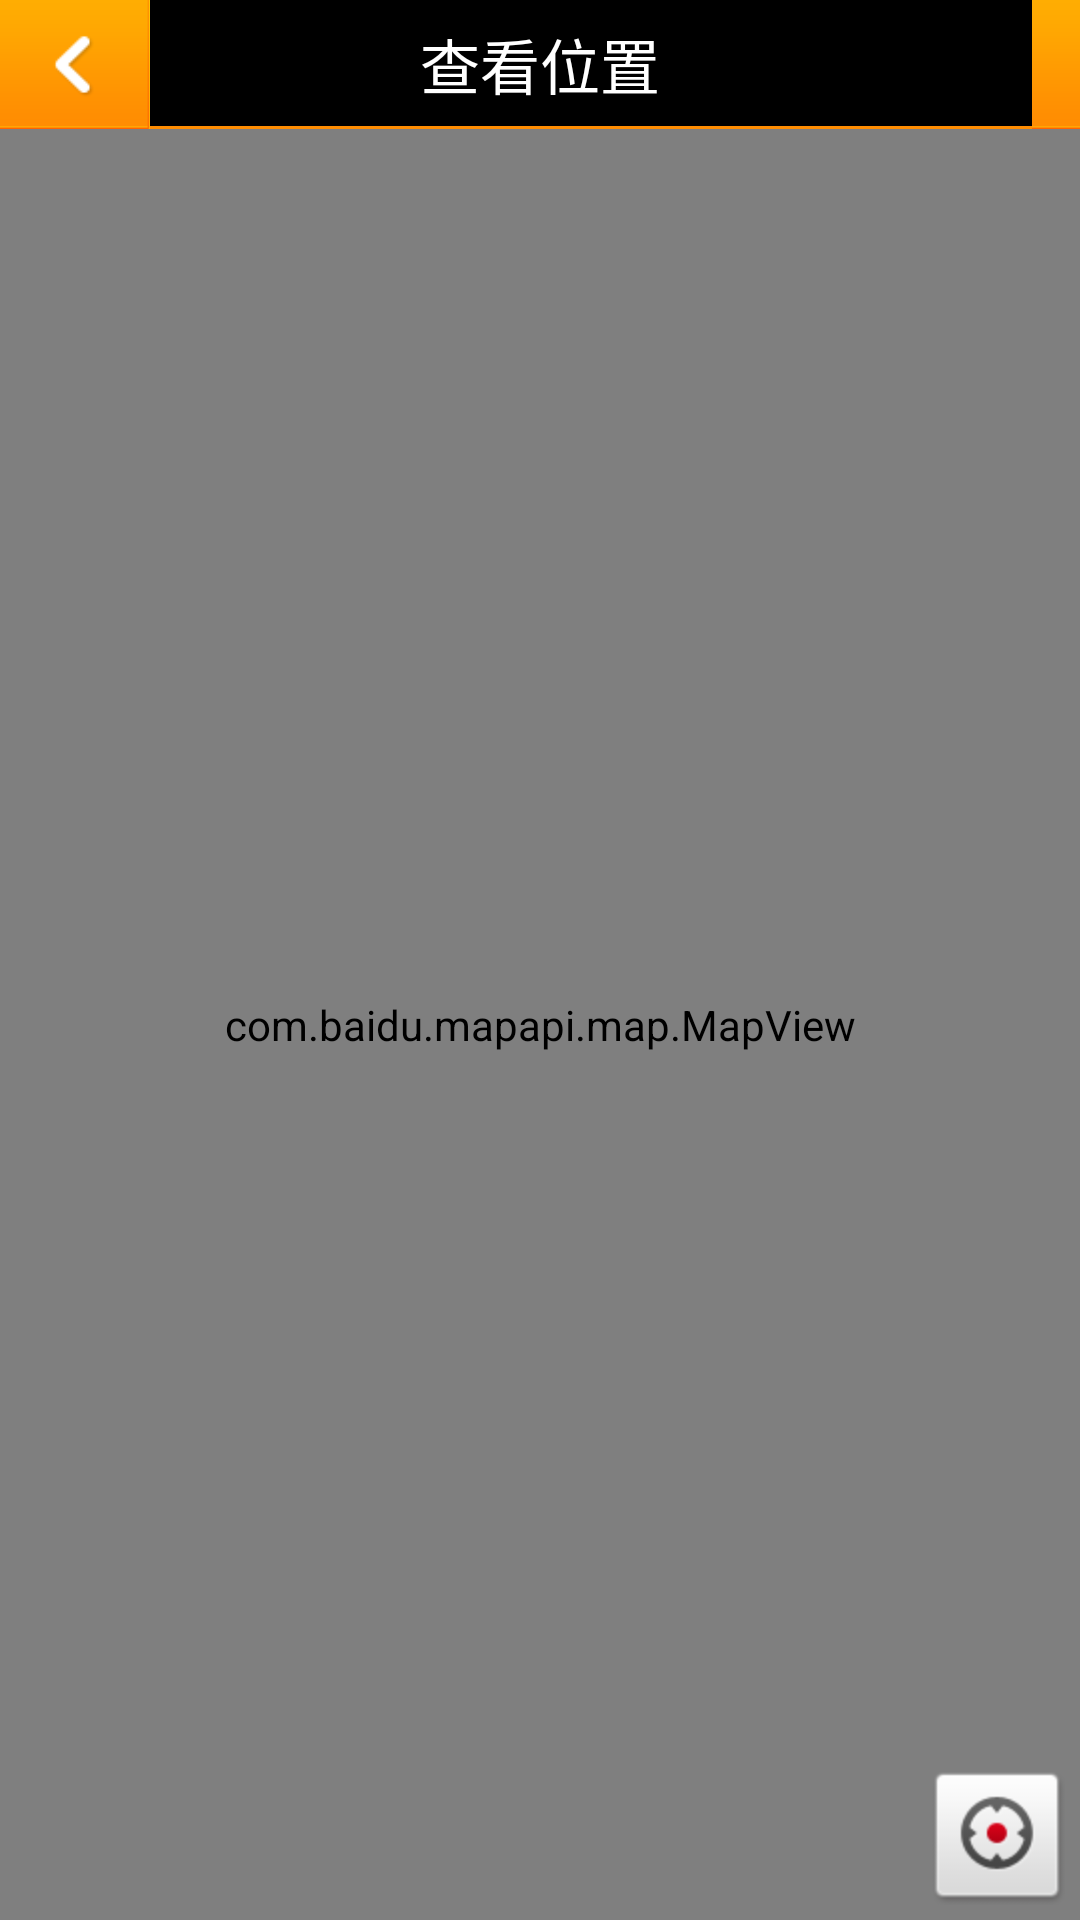

Screen size 1080 x 1920. Icon name, then its center in pixels as [x,y]:
back: [74,61]
